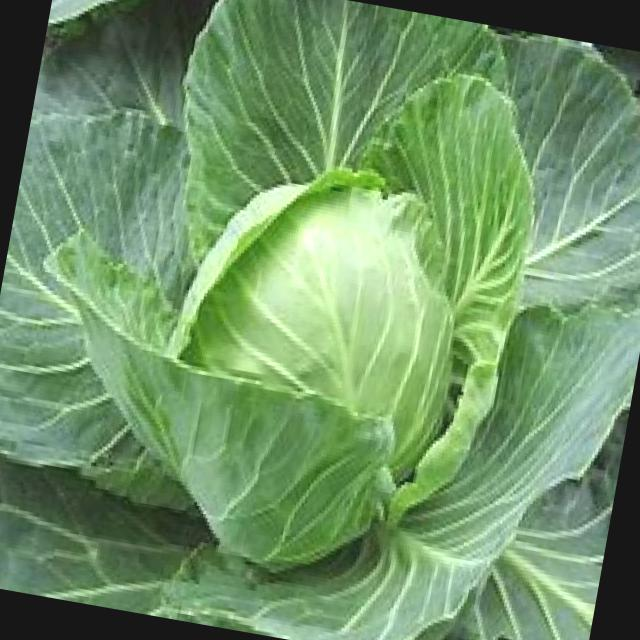cabbage: (160, 129, 487, 508)
